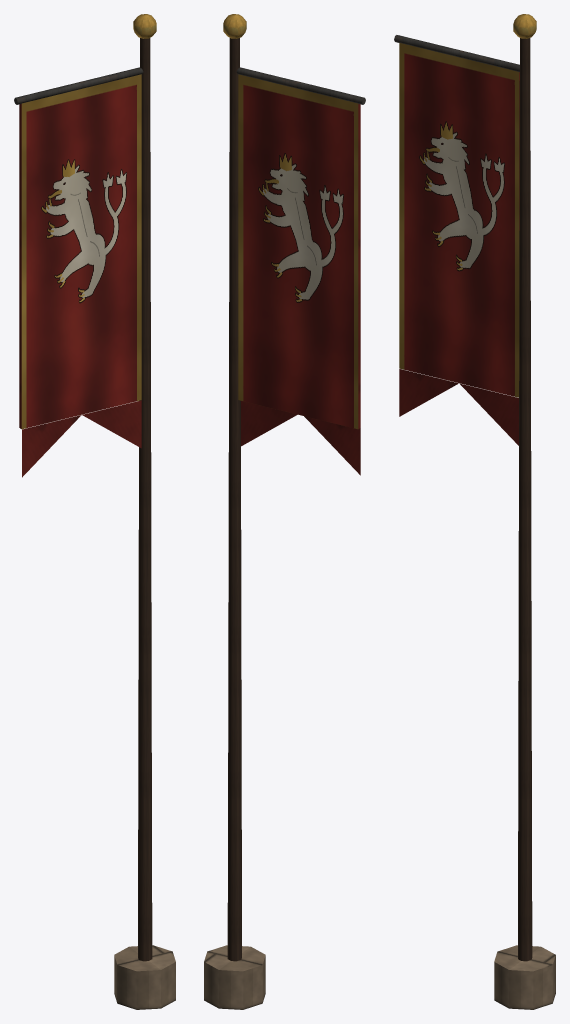
File: flag_pole.gltf
3 views of the same model, side by side, from view 1: azimuth 30°, elevation 25°; view 2: azimuth 150°, elevation 25°; view 3: azimuth 330°, elevation 25° (orthographic).
Parts seen in each view (by area): view 1: ANIM_banner, flag_pole_mesh; view 2: ANIM_banner, flag_pole_mesh; view 3: ANIM_banner, flag_pole_mesh.
Boxes of the visible parts, x1=… form: ANIM_banner: x1=14, y1=67, x2=143, y2=477; flag_pole_mesh: x1=114, y1=14, x2=175, y2=1009; ANIM_banner: x1=236, y1=67, x2=365, y2=475; flag_pole_mesh: x1=204, y1=14, x2=265, y2=1009; ANIM_banner: x1=394, y1=35, x2=519, y2=445; flag_pole_mesh: x1=494, y1=14, x2=555, y2=1009.
Size of what is drawn, in the model's own units: 1.7 by 10.17 by 0.6.
Materials: 6 (6 with a texture image).
